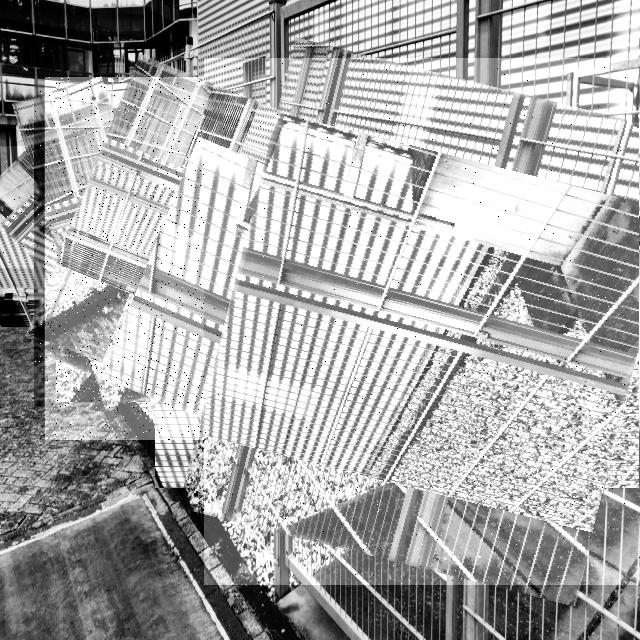fences: (204, 58, 640, 585), (45, 77, 408, 440), (34, 79, 173, 406), (0, 146, 98, 268)
